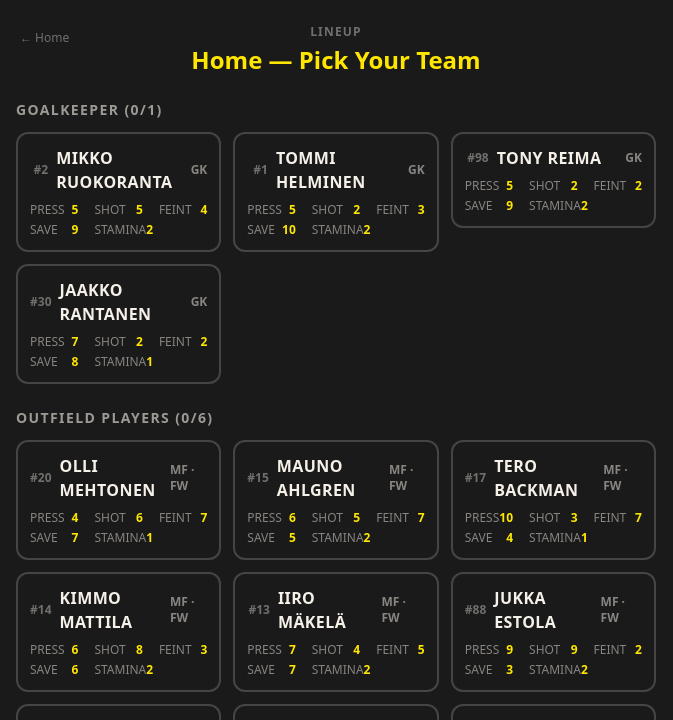
it: LineupScreen — redesign features › counter updates as players are selected
The width and height of the screenshot is (673, 720).
// Click first outfield player in the outfield-grid
Click the element with test id "player-card-". click: click(119, 500)
box: [16,440,221,560]
(page scrolled)
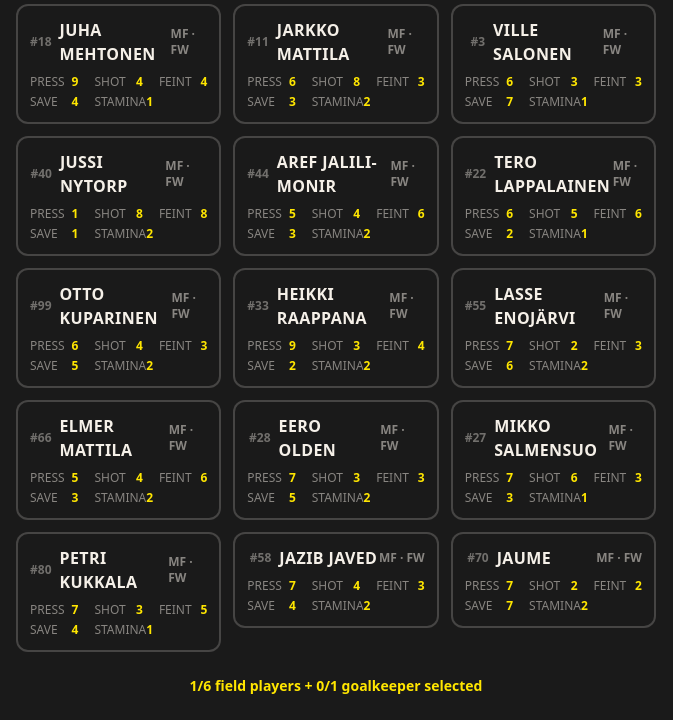
Result: the text with test id "lineup-counter" shows "1/6" at [190,676,482,695]
